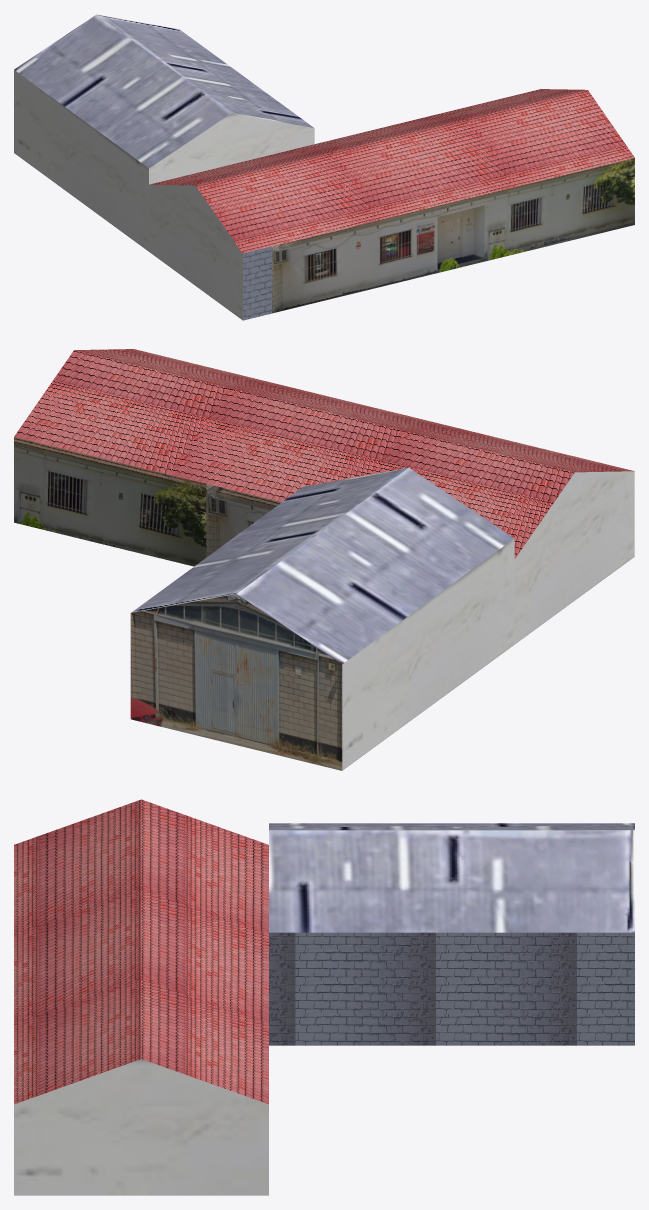
The model's file is Lecu_perimetro2.gltf.
3 views of the same model, one above another, from view 1: azimuth 30°, elevation 25°; view 2: azimuth 150°, elevation 25°; view 3: azimuth 270°, elevation 25° (orthographic). The views are drawn at different scales.
Parts seen in each view (by area): view 1: perimetro2; view 2: perimetro2; view 3: perimetro2.
Part boxes in pixels (x1=…): perimetro2: x1=14, y1=14, x2=634, y2=320; perimetro2: x1=14, y1=349, x2=634, y2=770; perimetro2: x1=14, y1=799, x2=634, y2=1195.
Size of the model in its own units: 20.1 by 5.8 by 20.32.
